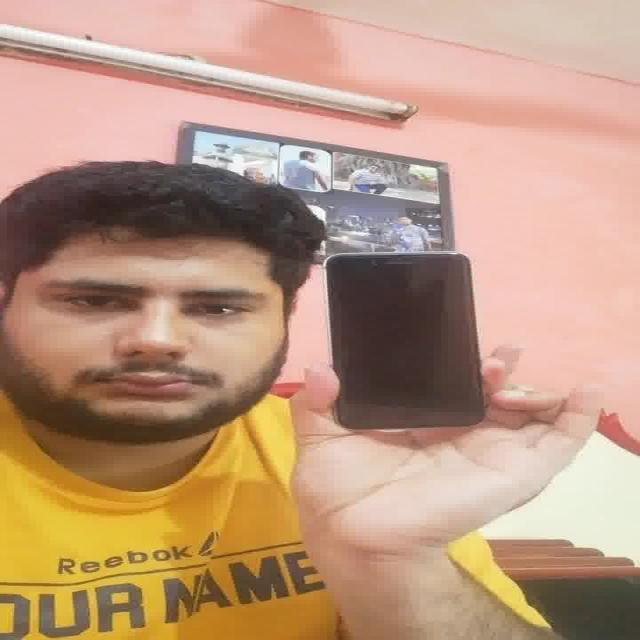Phone: (322, 251, 486, 434)
